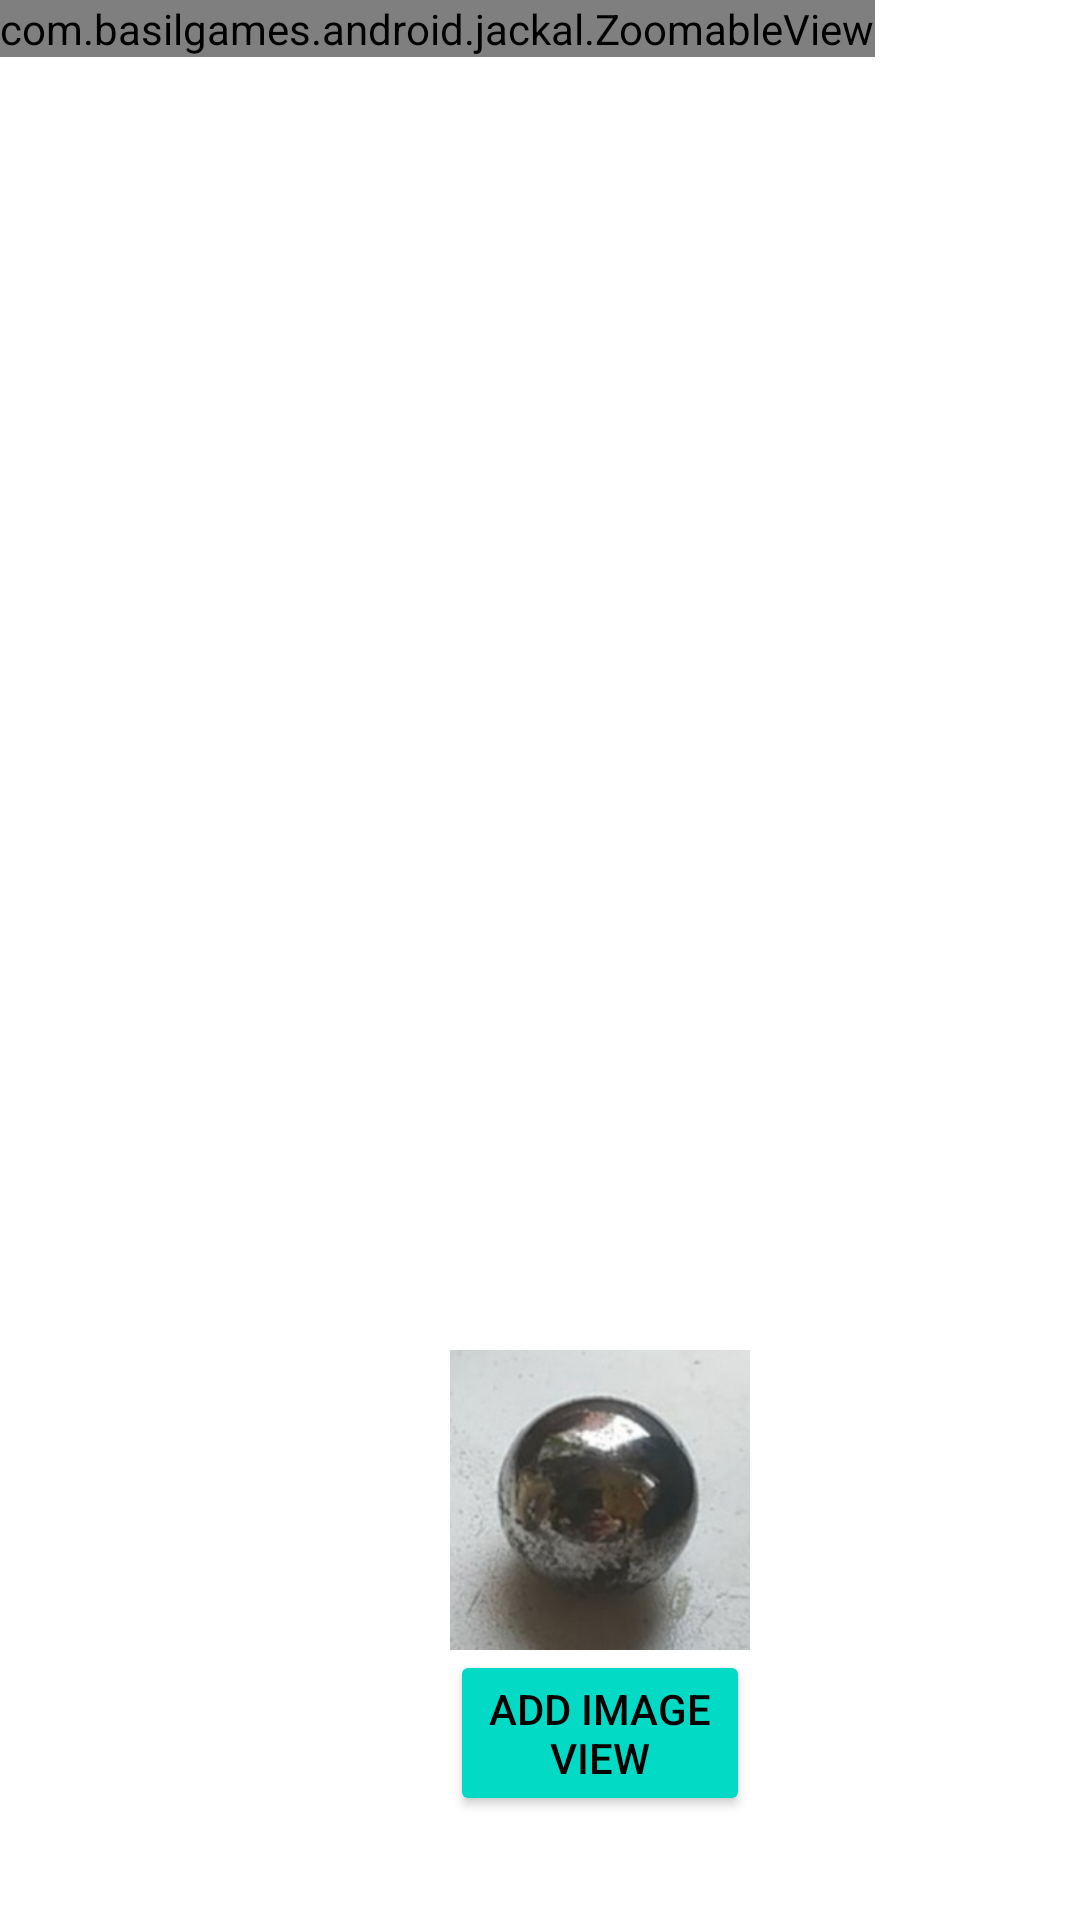

Screen size 1080 × 1920. Icon name, then its box in pixels as (x1, y1, x2, y2):
ball: (450, 1350, 750, 1650)
